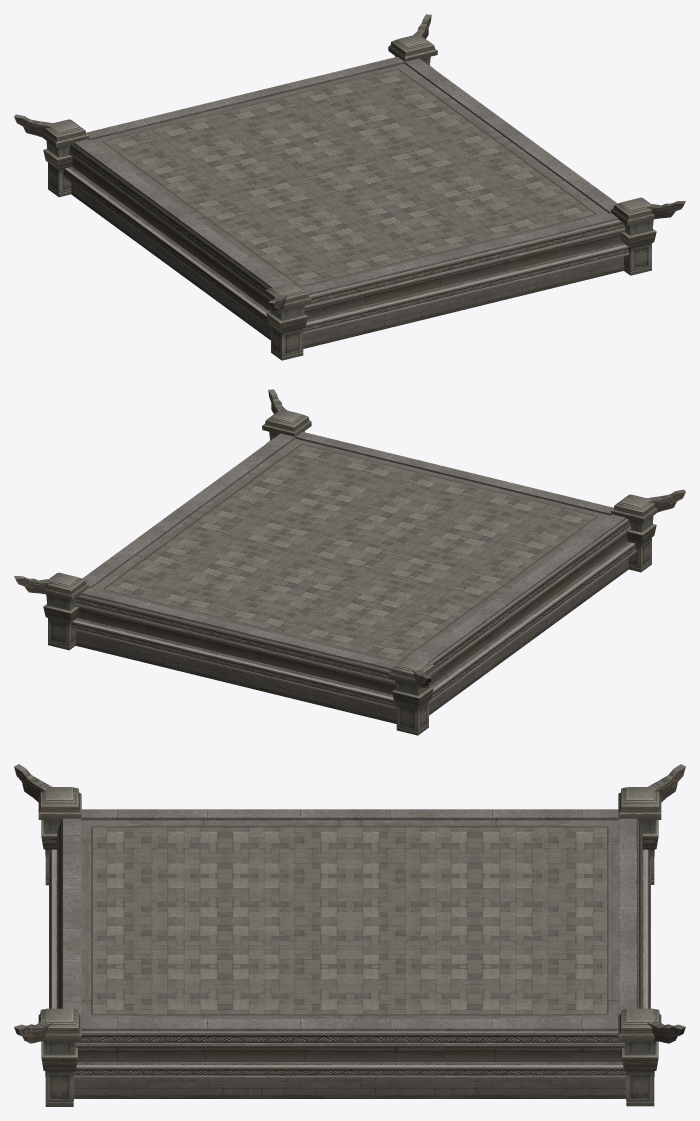
File: PVEchangjing03.FBX
3 views of the same model, one above another, from view 1: azimuth 30°, elevation 25°; view 2: azimuth 150°, elevation 25°; view 3: azimuth 270°, elevation 25° (orthographic). The views are drawn at different scales.
Visible parts, largest first — view 1: s7_unioncity_jianzhu_pingtai_01; view 2: s7_unioncity_jianzhu_pingtai_01; view 3: s7_unioncity_jianzhu_pingtai_01.
Part boxes in pixels (bbox=[...]): s7_unioncity_jianzhu_pingtai_01: bbox=[14, 14, 685, 360]; s7_unioncity_jianzhu_pingtai_01: bbox=[14, 389, 685, 735]; s7_unioncity_jianzhu_pingtai_01: bbox=[14, 764, 685, 1106].
Bounding box in the file's own units: 26.3 × 4.29 × 28.15.
